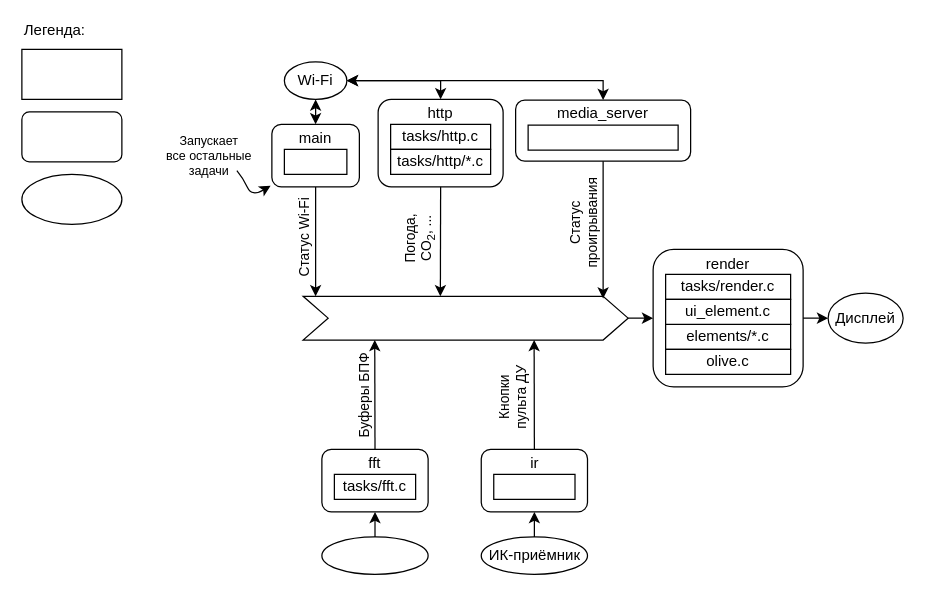
This 925x596 diagram has some shape labels left out. The centre of each missing label's shape, as x and y in pixels:
"main.c" belongs at [315,161].
"tasks/ir.c" belongs at [533,486].
"tasks/media_server.c" belongs at [602,137].
"Задача" belongs at [71,136].
"Микрофон" belongs at [374,555].
"Очередь сообщений" belongs at [465,317].
"Устройство" belongs at [71,198].
"Файл" belongs at [71,73].
